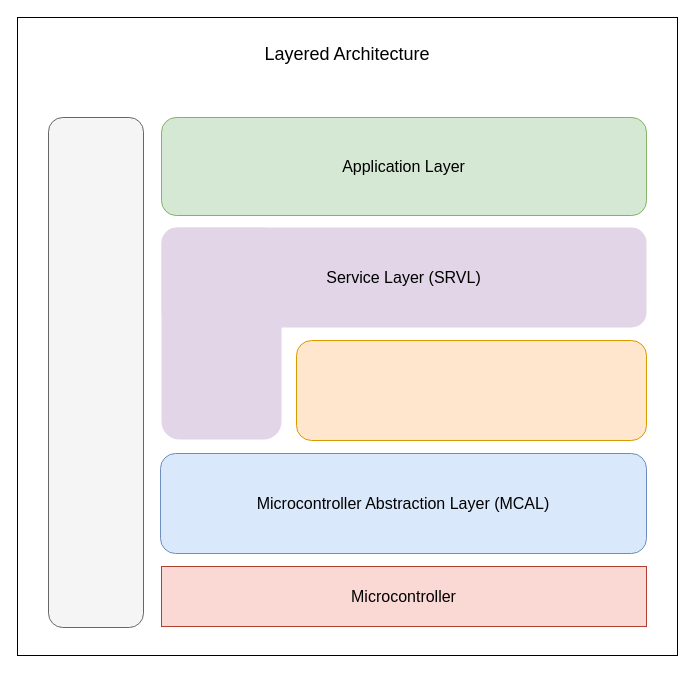
Image size: 695x673. Some labels were removed from this diagram. Each missing label, with the box of its shape:
Hardware Abstraction Layer (HAL): (296, 340, 646, 440)
Library (LIB): (48, 116, 144, 628)
